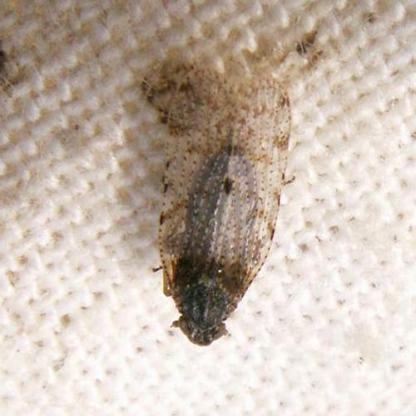brown-planthopper: (161, 68, 289, 349)
